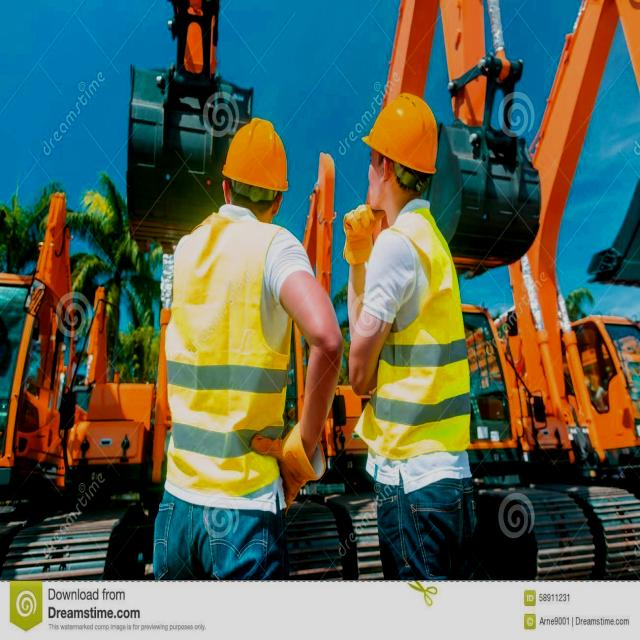face_nomask: (355, 147, 400, 209)
hand_glove: (251, 426, 328, 510), (340, 207, 383, 270)
head_helmet: (362, 92, 438, 176), (221, 113, 292, 193)
person: (174, 117, 315, 572), (352, 93, 481, 576)
vest: (176, 221, 280, 495), (396, 215, 472, 457)
